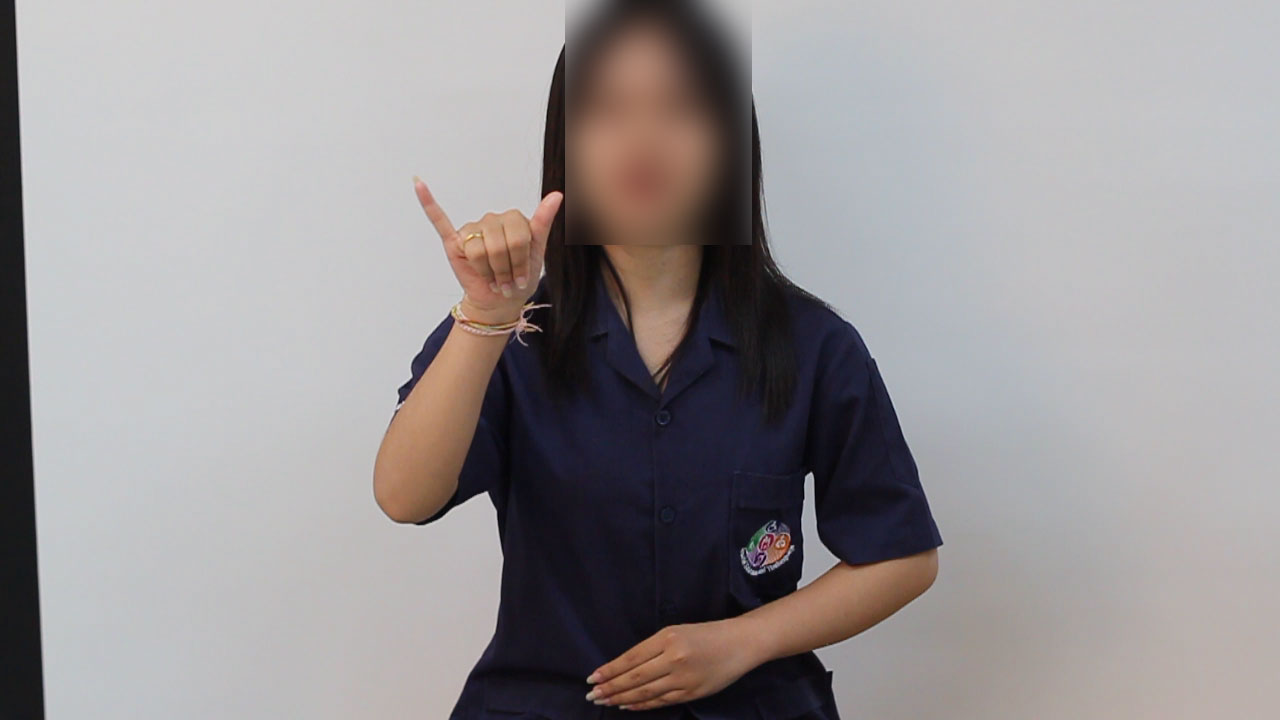yor: (399, 164, 568, 309)
